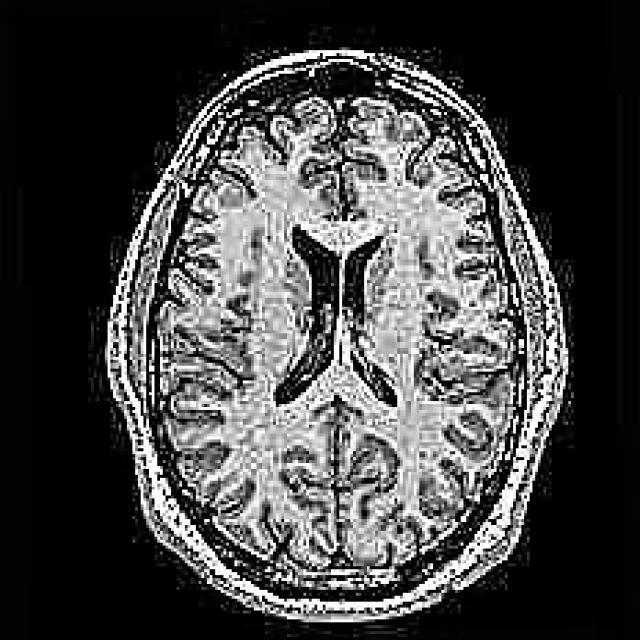notumor: (105, 50, 571, 625)
